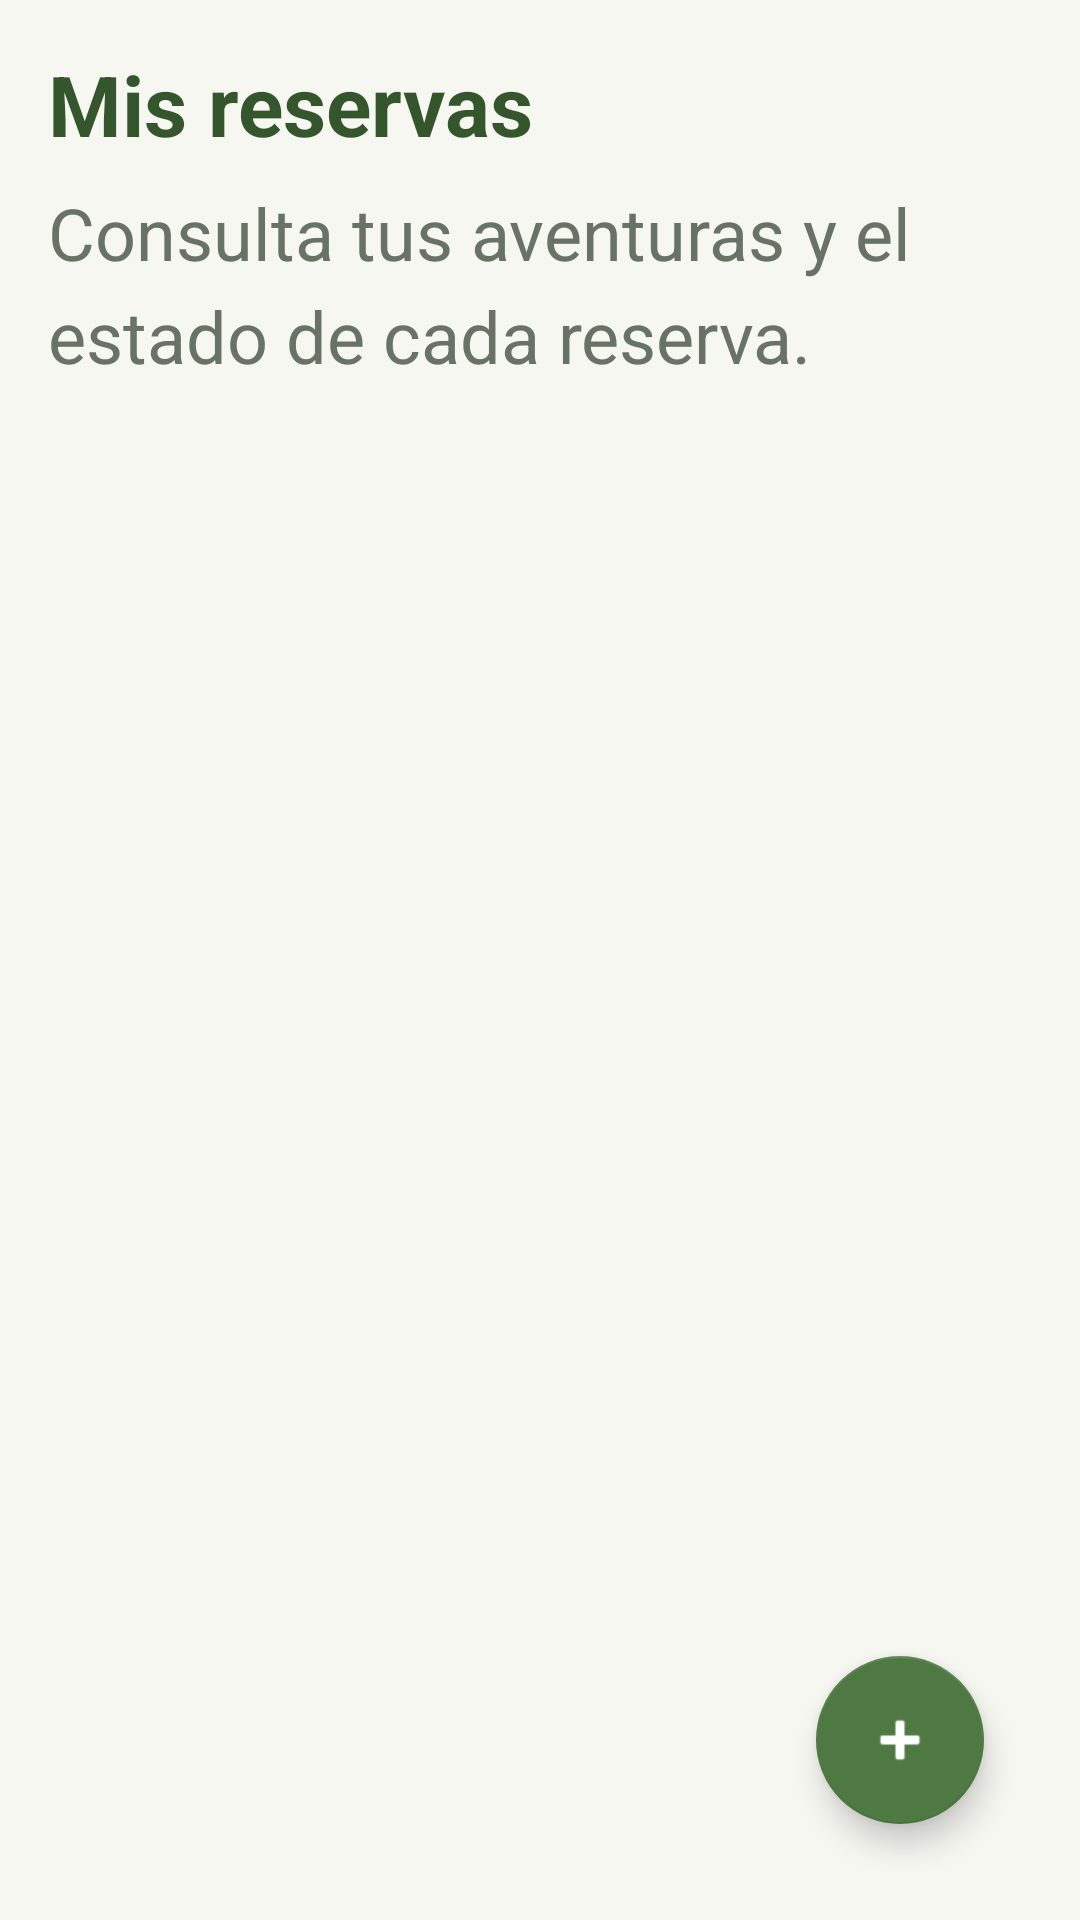

Screen size 1080px×1920px. Icon name, then its box in pixels as (x1, y1, x2, y2):
Registrar nueva reserva: (816, 1656, 984, 1824)
